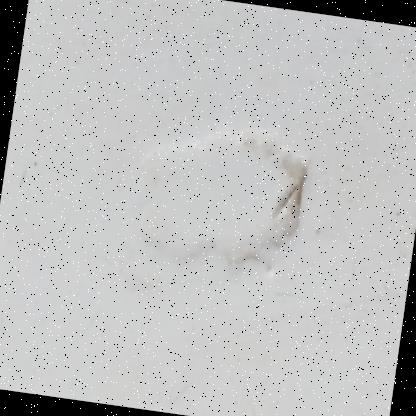Crack: (99, 68, 334, 318)
